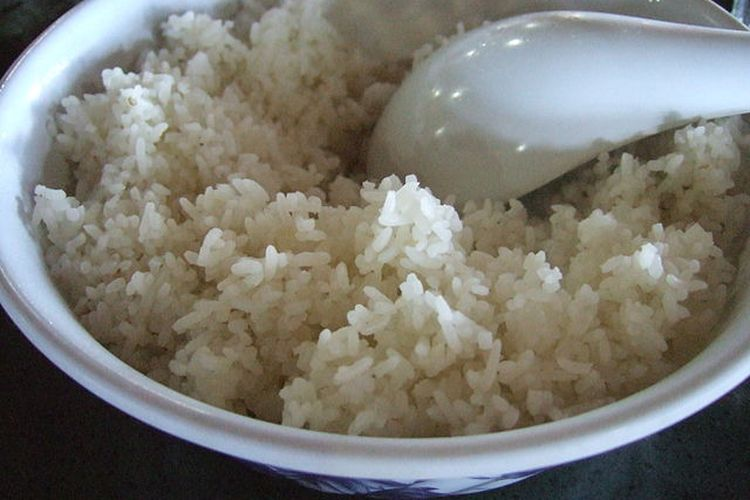Nasi Putih: (15, 12, 716, 426)
